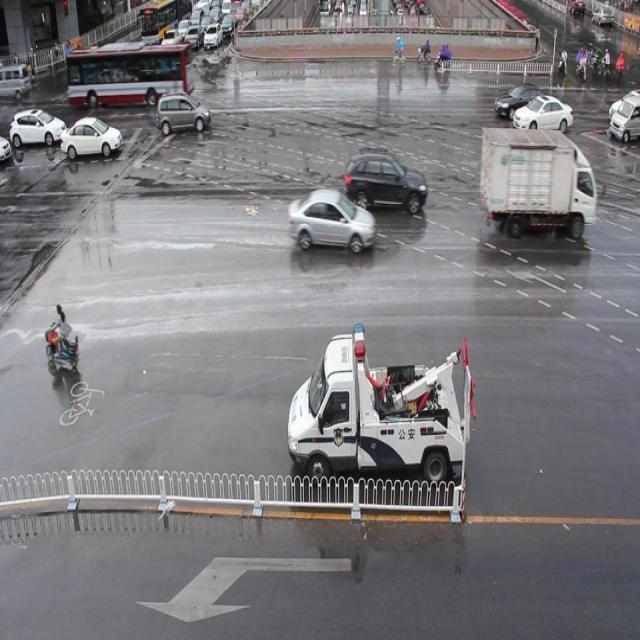bus: (286, 320, 475, 486), (480, 125, 596, 240)
car: (288, 188, 374, 252), (343, 150, 428, 213), (61, 115, 122, 156), (511, 92, 572, 130), (156, 91, 212, 132), (494, 83, 546, 117)
truck: (607, 88, 640, 141)
van: (68, 47, 194, 102)
